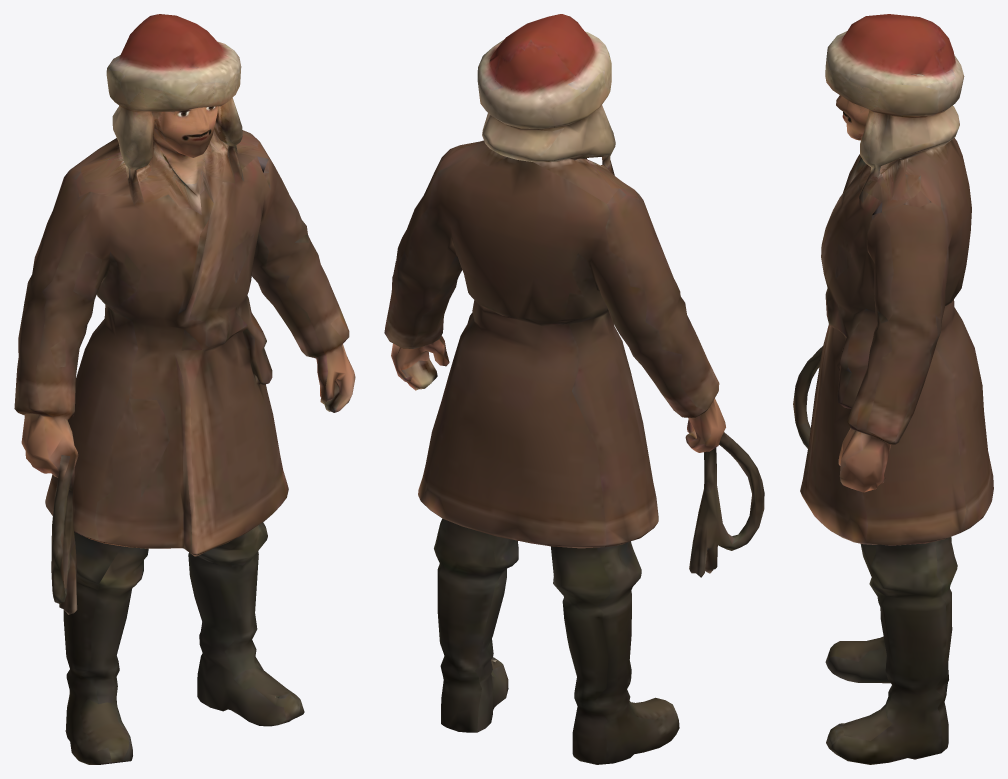
The model's file is herder-dauren.gen.phone.glb.
The picture shows the model from 3 angles, left to right: view 1: azimuth 30°, elevation 25°; view 2: azimuth 150°, elevation 25°; view 3: azimuth 270°, elevation 25°; orthographic projection.
Visible parts, largest first — view 1: herder-dauren.raw; view 2: herder-dauren.raw; view 3: herder-dauren.raw.
Boxes of the visible parts, left/top/right/bottom form: herder-dauren.raw: left=14, top=14, right=355, bottom=764; herder-dauren.raw: left=384, top=14, right=764, bottom=764; herder-dauren.raw: left=793, top=14, right=993, bottom=764.
Bounding box in the file's own units: 0.9166 × 1.85 × 0.4826.
Materials: 1 (1 with a texture image).
